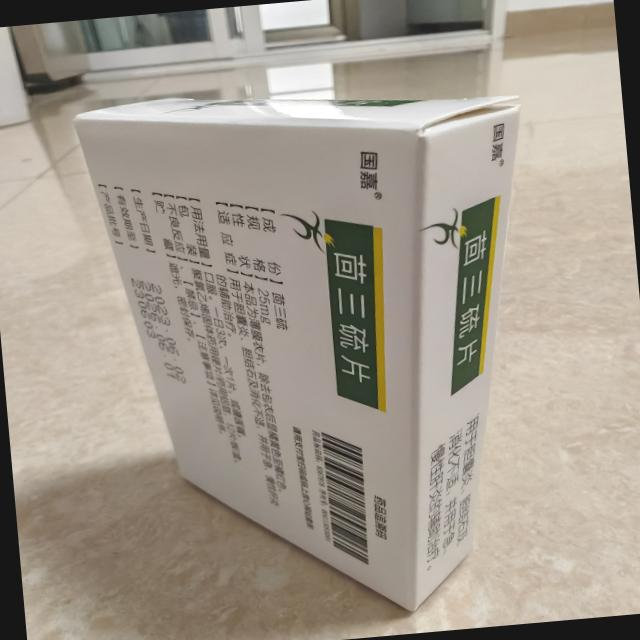box: (59, 57, 576, 640)
